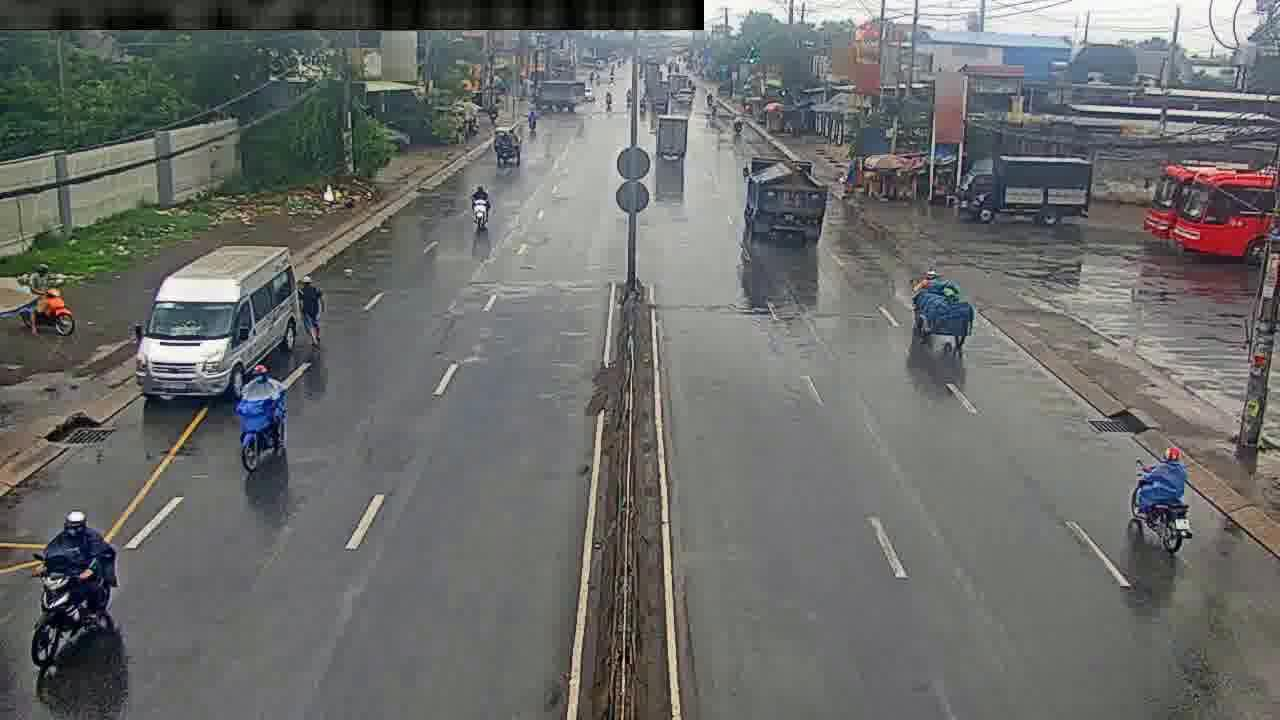container: (743, 153, 822, 241), (652, 105, 693, 162)
motorbike: (51, 509, 116, 656), (1139, 444, 1189, 558), (239, 374, 285, 472), (24, 258, 79, 339), (925, 279, 963, 348), (472, 179, 494, 231)
passenger_car: (131, 245, 303, 393)
